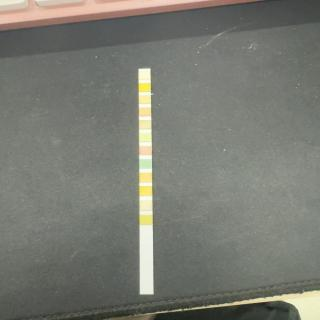mark: (140, 200, 152, 211), (139, 186, 152, 196), (139, 146, 152, 156), (139, 132, 152, 142), (140, 214, 152, 224), (139, 159, 152, 168), (140, 173, 152, 182), (139, 120, 151, 129), (139, 107, 151, 116), (139, 95, 151, 104), (139, 83, 151, 92), (138, 71, 150, 79)
